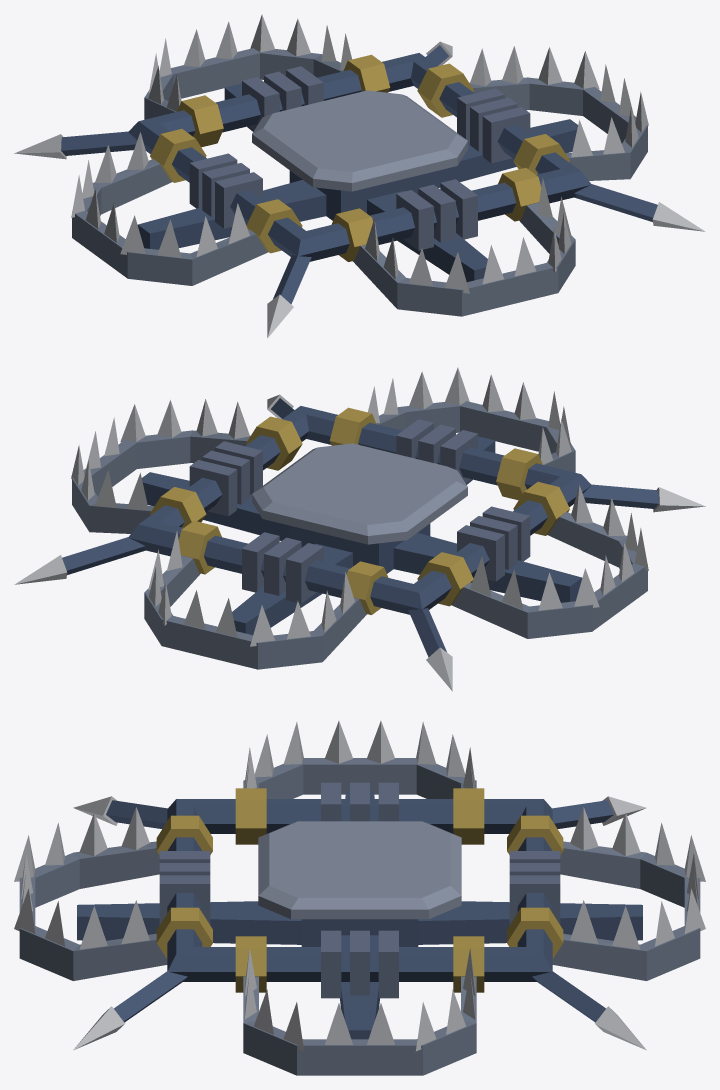
The model's file is capture-trap-7b2ca6.glb.
The picture shows the model from 3 angles, top to bottom: view 1: azimuth 30°, elevation 25°; view 2: azimuth 150°, elevation 25°; view 3: azimuth 270°, elevation 25°; orthographic projection. The views are drawn at different scales.
Parts seen in each view (by area): view 1: trap-frame, jaw-3-mesh, jaw-0-mesh, jaw-1-mesh, jaw-2-mesh; view 2: trap-frame, jaw-3-mesh, jaw-2-mesh, jaw-1-mesh, jaw-0-mesh; view 3: trap-frame, jaw-0-mesh, jaw-2-mesh, jaw-1-mesh, jaw-3-mesh.
Boxes of the visible parts, x1,y1,x2,y2 form: trap-frame: (14,41,705,338); jaw-3-mesh: (71,129,302,285); jaw-0-mesh: (331,168,575,316); jaw-1-mesh: (417,46,648,180); jaw-2-mesh: (144,14,390,147); trap-frame: (14,394,705,691); jaw-3-mesh: (417,482,648,638); jaw-2-mesh: (144,521,388,669); jaw-1-mesh: (71,399,302,533); jaw-0-mesh: (329,367,575,500); trap-frame: (73,782,646,1050); jaw-0-mesh: (14,807,212,980); jaw-2-mesh: (507,807,705,980); jaw-1-mesh: (235,936,484,1075); jaw-3-mesh: (235,721,484,844).
Bounding box in the file's own units: 0.7116 × 0.0924 × 0.7116.
